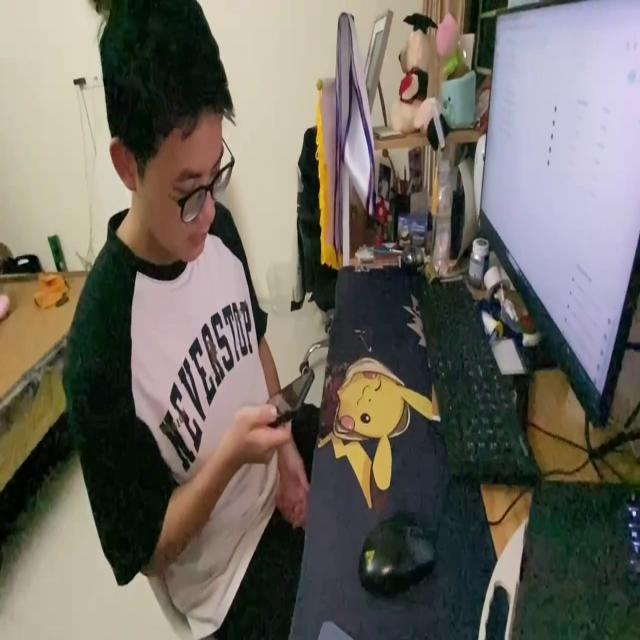laptop: (475, 3, 640, 432)
phone: (256, 365, 318, 425)
student: (66, 0, 323, 640)
